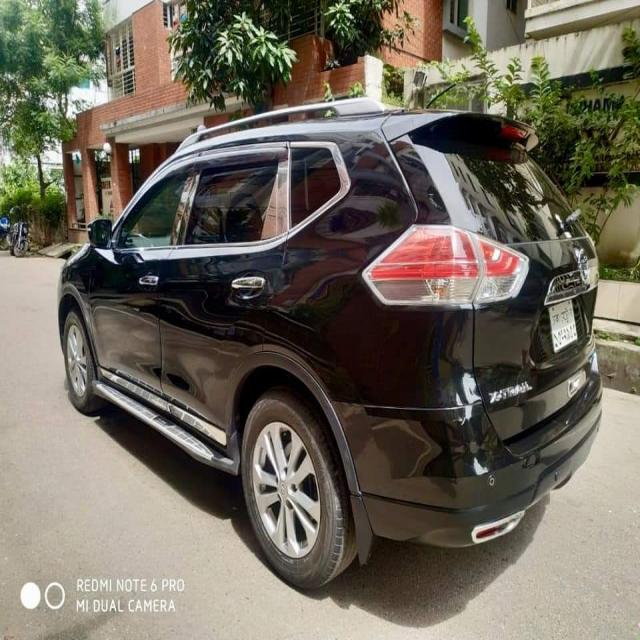black: (59, 109, 604, 566)
